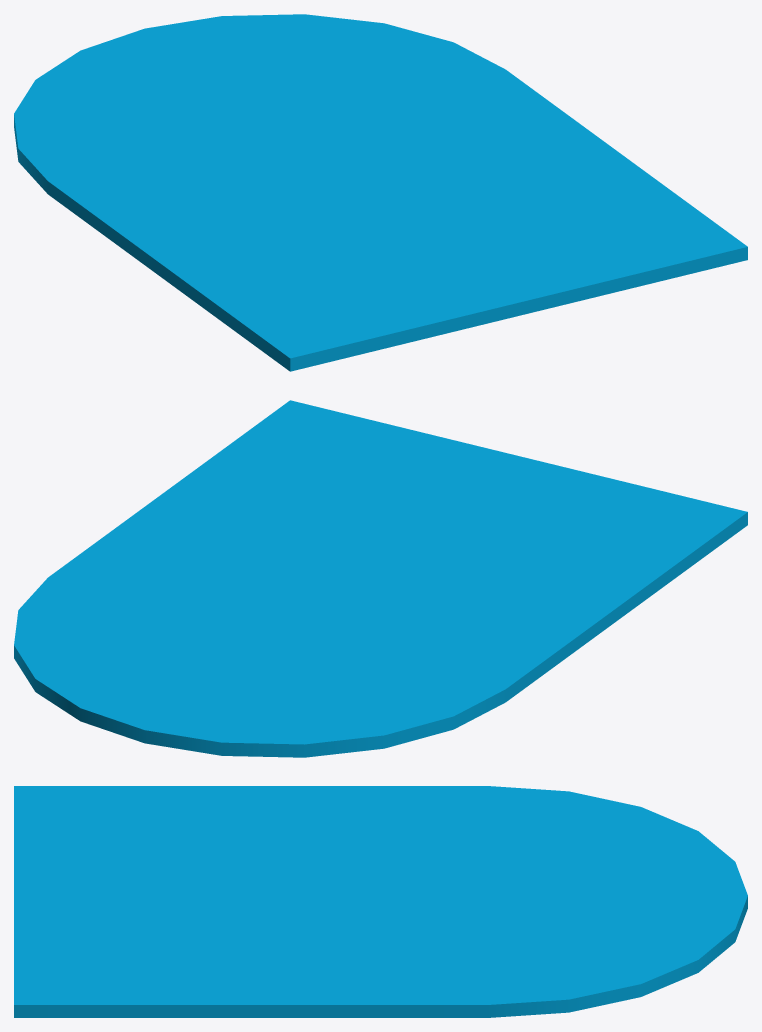
The model's file is Mailbox_01_Door_Lod0.fbx.
3 views of the same model, one above another, from view 1: azimuth 30°, elevation 25°; view 2: azimuth 150°, elevation 25°; view 3: azimuth 270°, elevation 25° (orthographic). The views are drawn at different scales.
Parts seen in each view (by area): view 1: Mailbox_01_Door_Lod0; view 2: Mailbox_01_Door_Lod0; view 3: Mailbox_01_Door_Lod0.
Boxes of the visible parts, left/top/right/bottom form: Mailbox_01_Door_Lod0: left=14, top=14, right=747, bottom=371; Mailbox_01_Door_Lod0: left=14, top=400, right=747, bottom=757; Mailbox_01_Door_Lod0: left=14, top=786, right=747, bottom=1017.
Size of the model in its own units: 19.63 by 0.5427 by 27.8.
